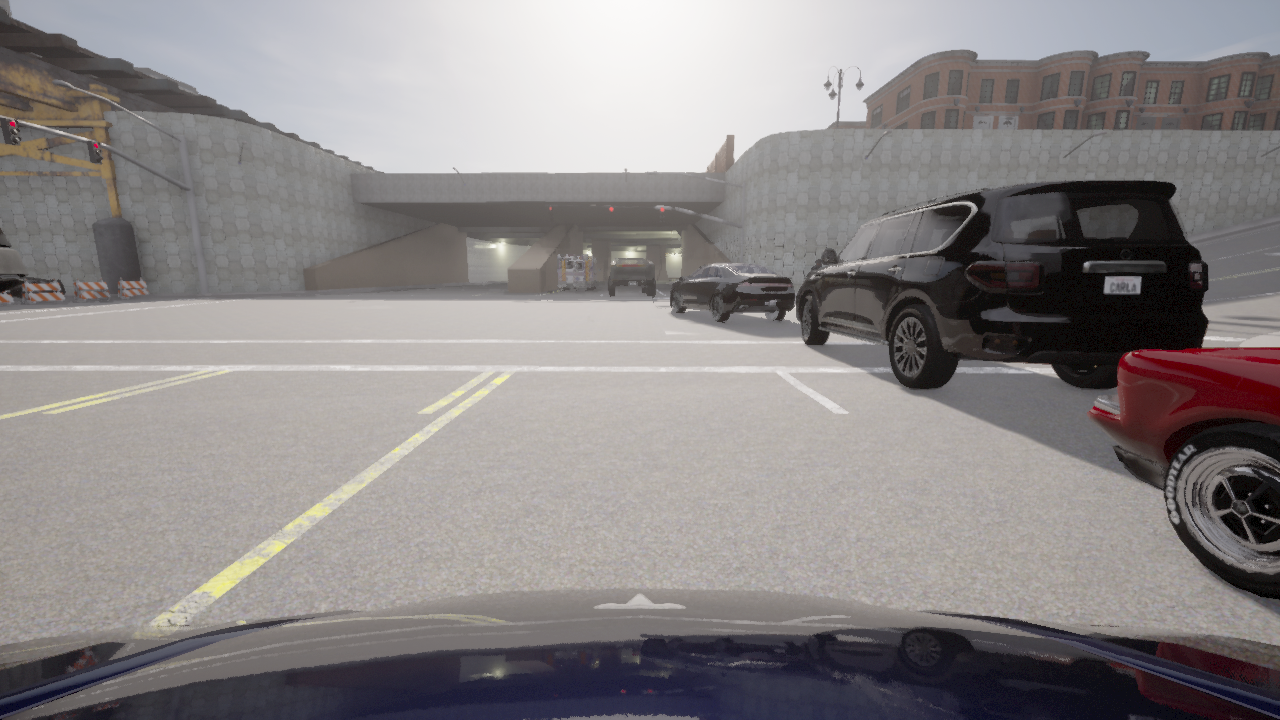cyclist: (0, 588, 1279, 719), (797, 180, 1208, 388), (1086, 347, 1279, 599), (670, 263, 793, 321), (607, 257, 654, 296), (558, 254, 601, 290), (7, 277, 65, 298)
pedestrian: (812, 260, 820, 270)
